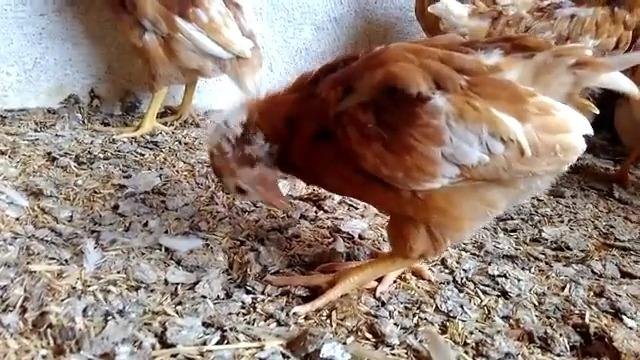Normal: (207, 29, 640, 314)
